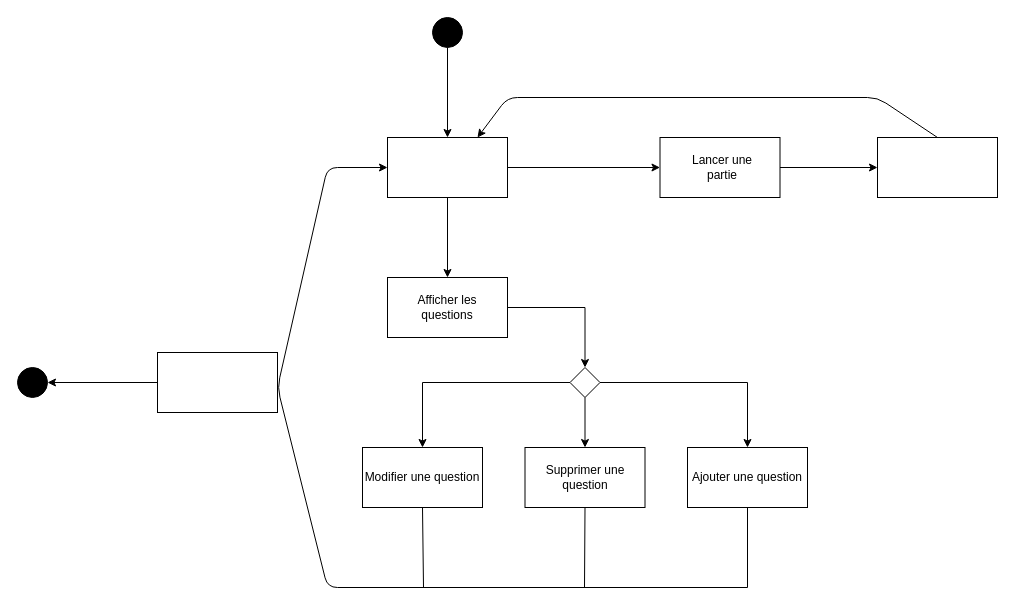
Some shapes in this 1015 by 613 pixel diagram are drawn without their labels. The shapes that lost their labels are listed below. From the top down, each one's centre as x and y in pixels, then its label:
pixel 447 167: Choix de l'activité
pixel 937 167: Affiche le résultat de la partie
pixel 217 382: Si finit la partie peut en refaire une ou alors partir
